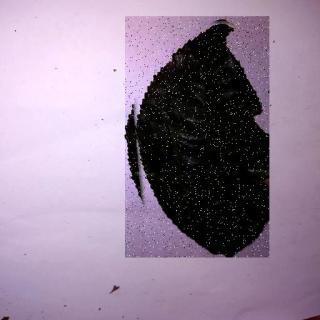Anthracnose: (126, 18, 270, 259)
